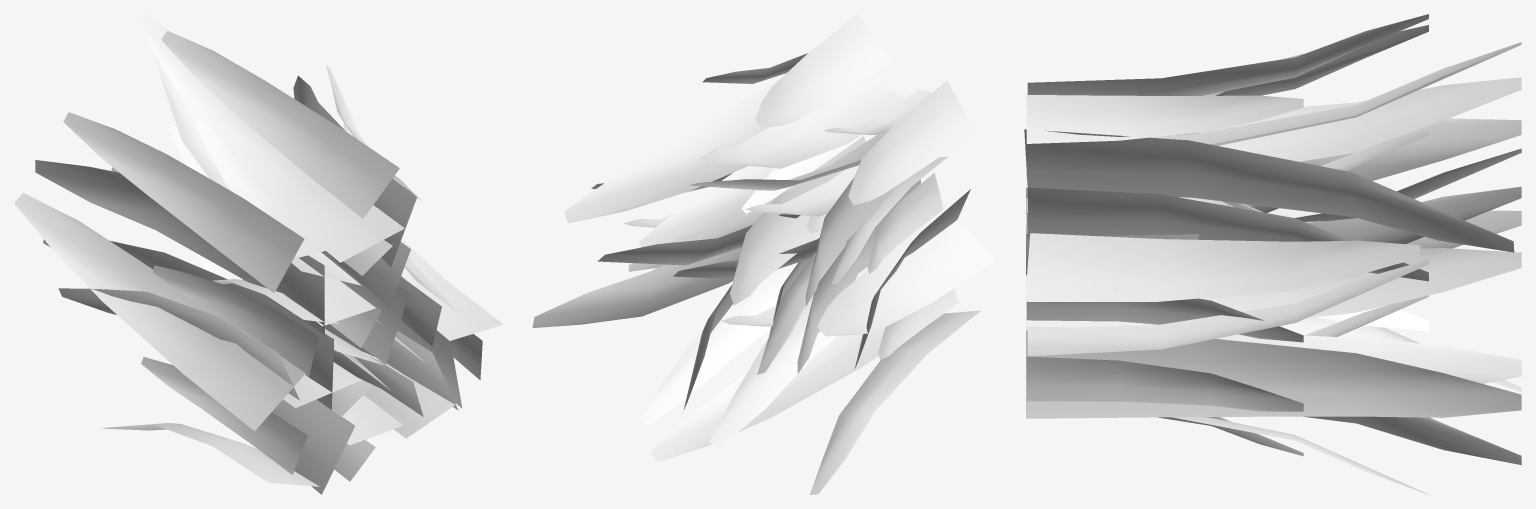
File: GRASSV2..2fbx.fbx
The picture shows the model from 3 angles, left to right: view 1: azimuth 30°, elevation 25°; view 2: azimuth 150°, elevation 25°; view 3: azimuth 270°, elevation 25°; orthographic projection. The views are drawn at different scales.
Parts seen in each view (by area): view 1: Plane.019; view 2: Plane.019; view 3: Plane.019.
Part boxes in pixels (x1,y1,x2,y2): Plane.019: (14, 14, 503, 494); Plane.019: (532, 14, 995, 494); Plane.019: (1024, 14, 1521, 494).
Size of the model in its own units: 8151 by 9625 by 9592.
1 material, 1 textured.
